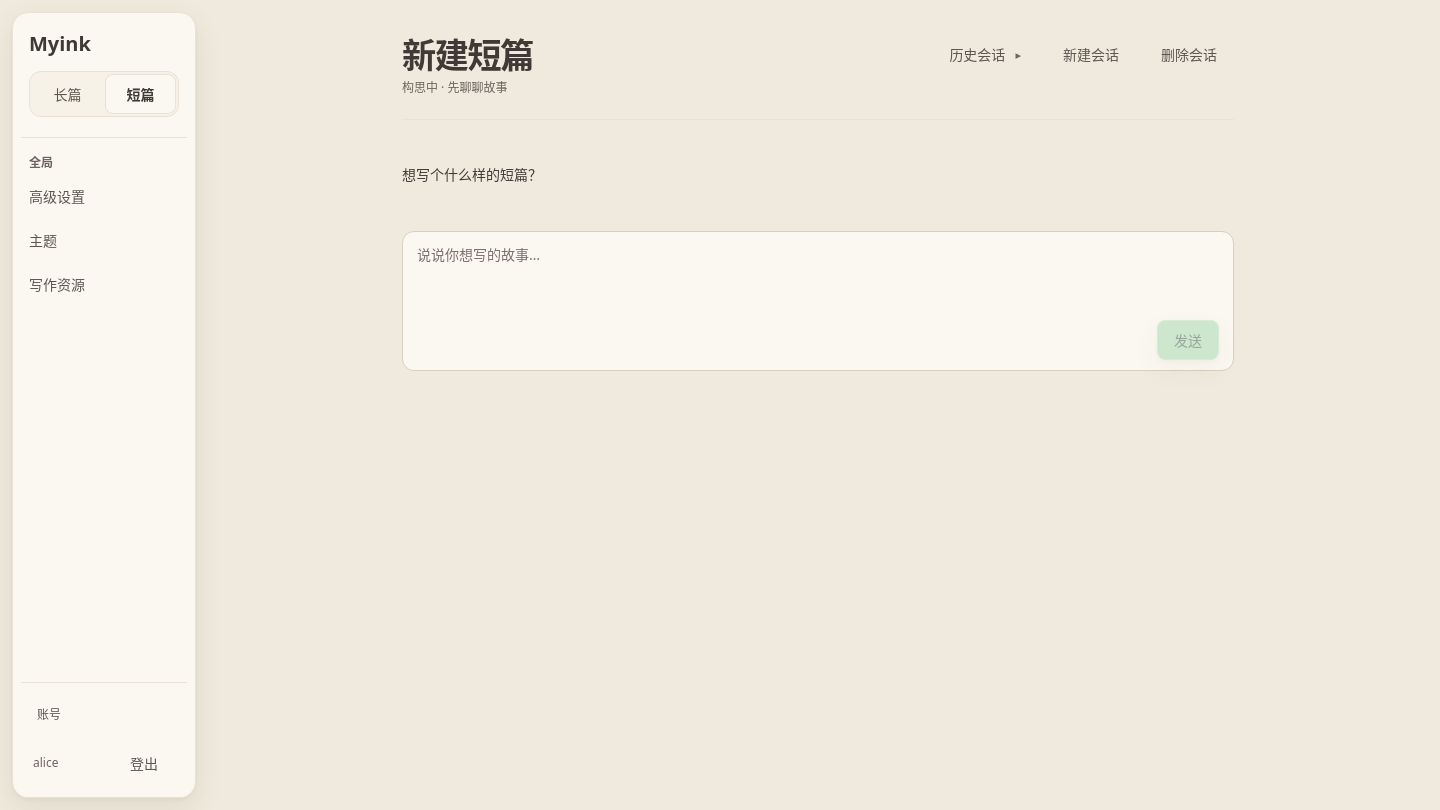
Test: sends the message and renders both sides of the turn
In the text box named "对助手说": (818, 275) [417,244,1219,307], type "渡口的故事"
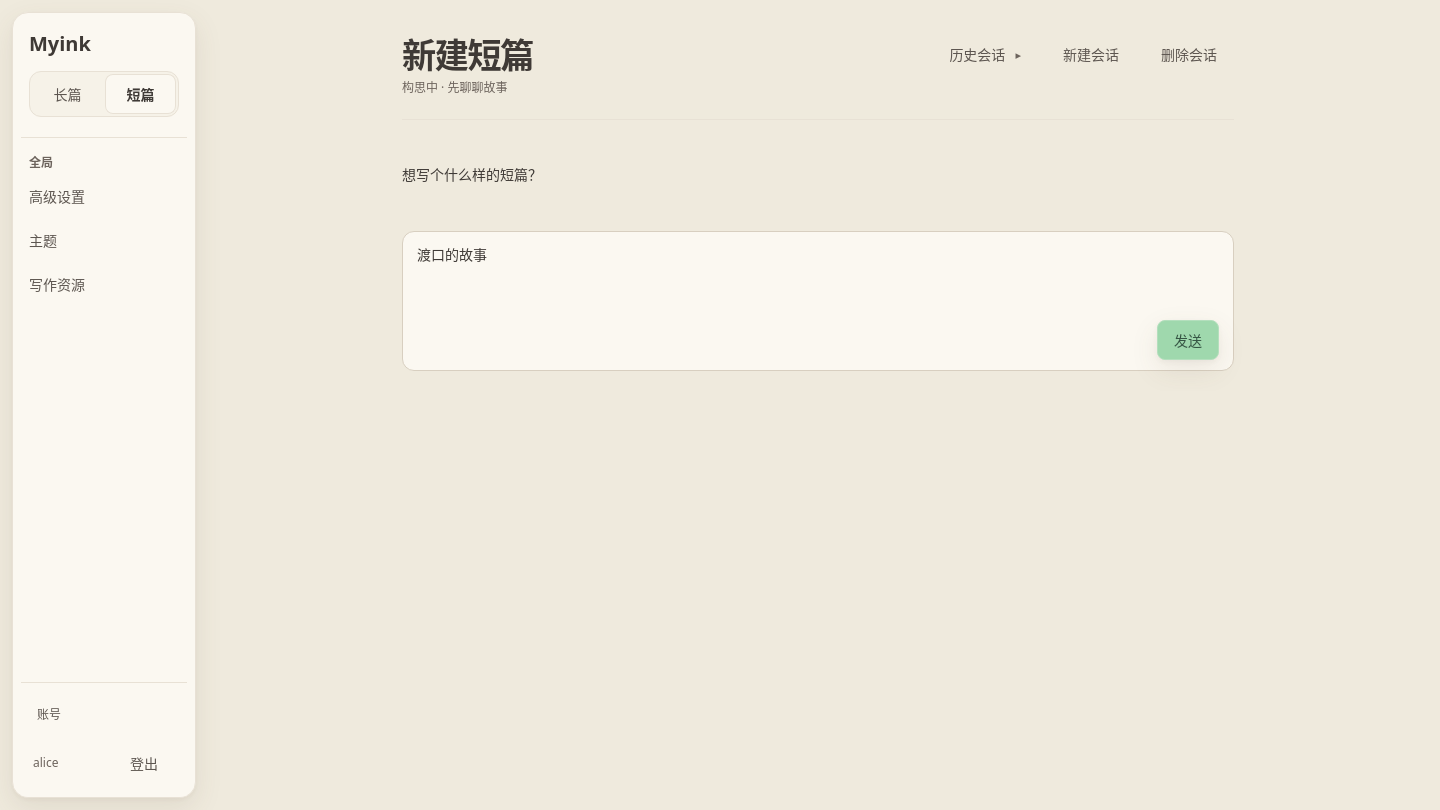
Click the button "发送": click(1188, 340) [1157,320,1219,360]
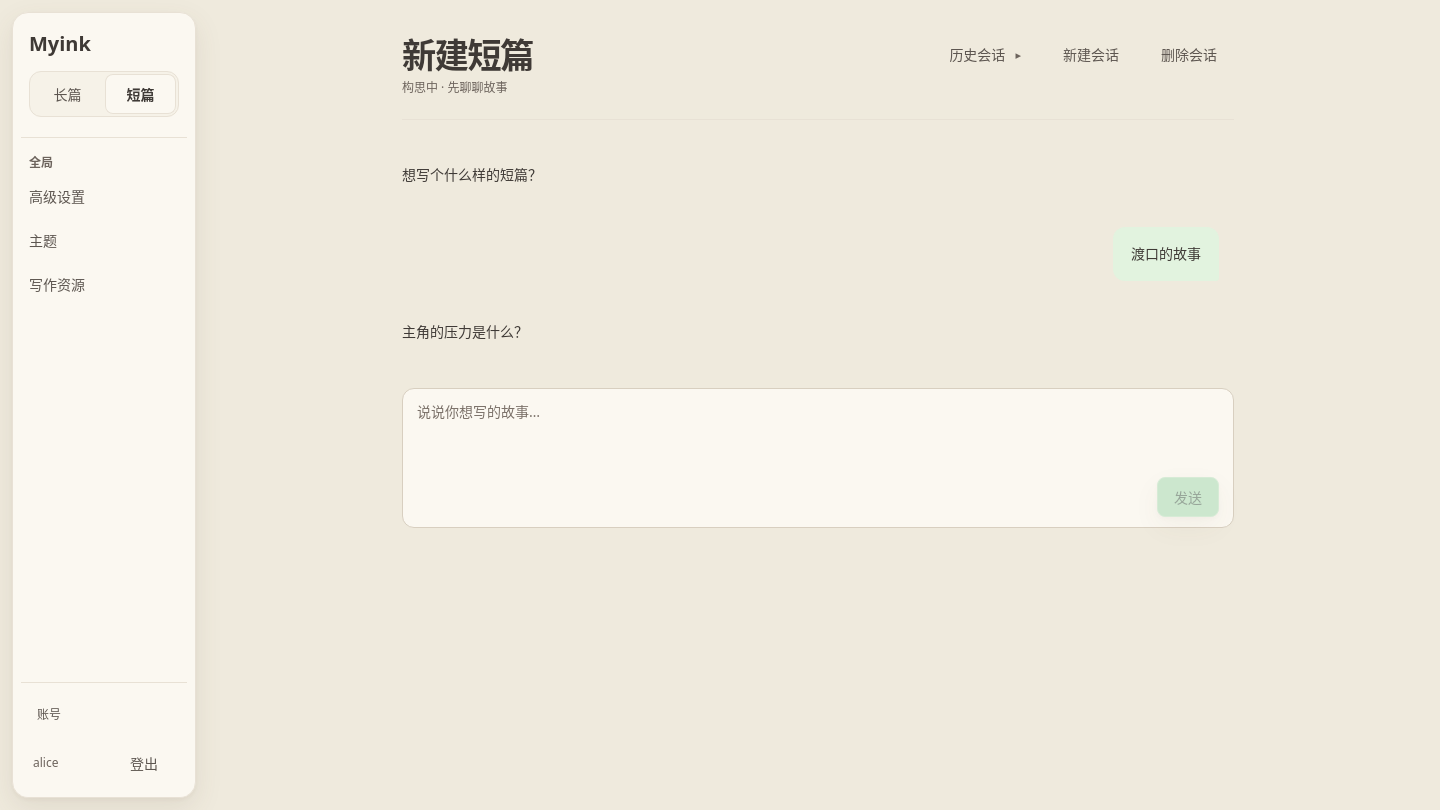
Expected: the text "主角的压力是什么？" is shown, [402,319,528,346]
Expected: the text "渡口的故事" is shown, [1131,241,1201,267]
